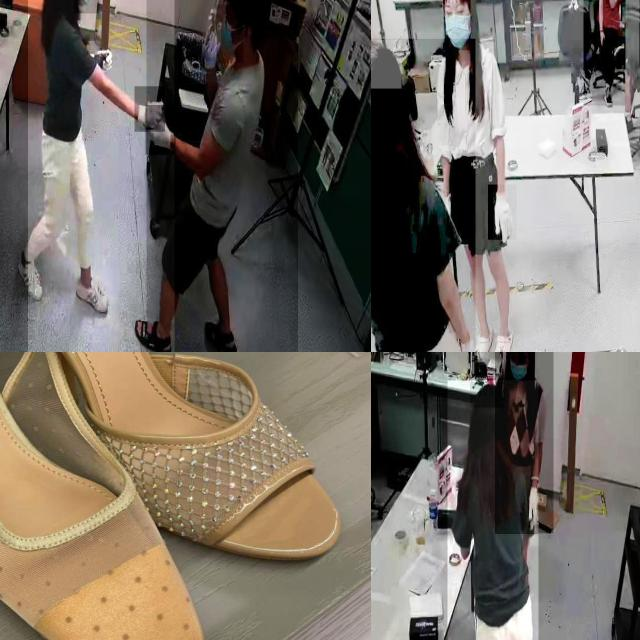Sandals: (0, 352, 371, 579), (0, 352, 221, 640)
face_mask: (216, 5, 244, 63), (443, 0, 470, 50), (511, 356, 529, 382), (74, 0, 99, 13)
hand_glove: (488, 184, 517, 240), (146, 105, 176, 155), (135, 86, 165, 132)
hand_noglove: (598, 26, 605, 48)
head_nohelmet: (371, 39, 402, 89), (470, 382, 505, 409)
person: (146, 0, 298, 352), (27, 0, 174, 352), (417, 0, 526, 352), (371, 38, 476, 352), (447, 380, 538, 640), (495, 352, 554, 534), (583, 0, 626, 106)
shoes: (16, 242, 52, 308), (68, 264, 112, 318)
